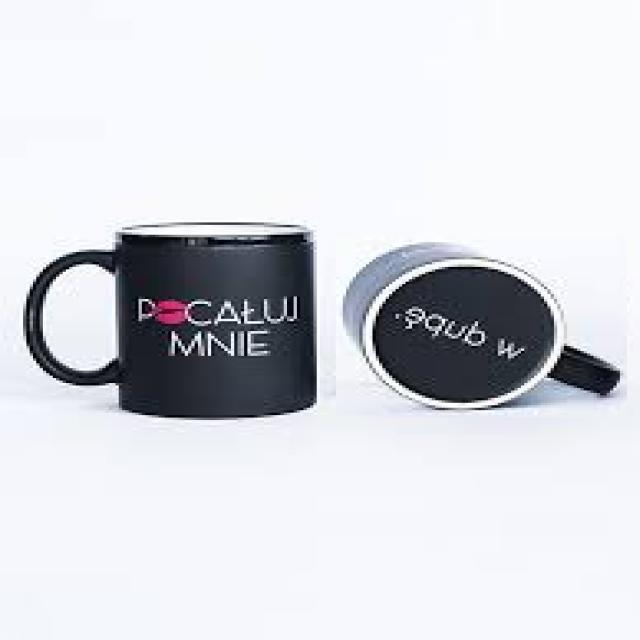Coffee Mug: (23, 222, 307, 413), (345, 242, 624, 412)
